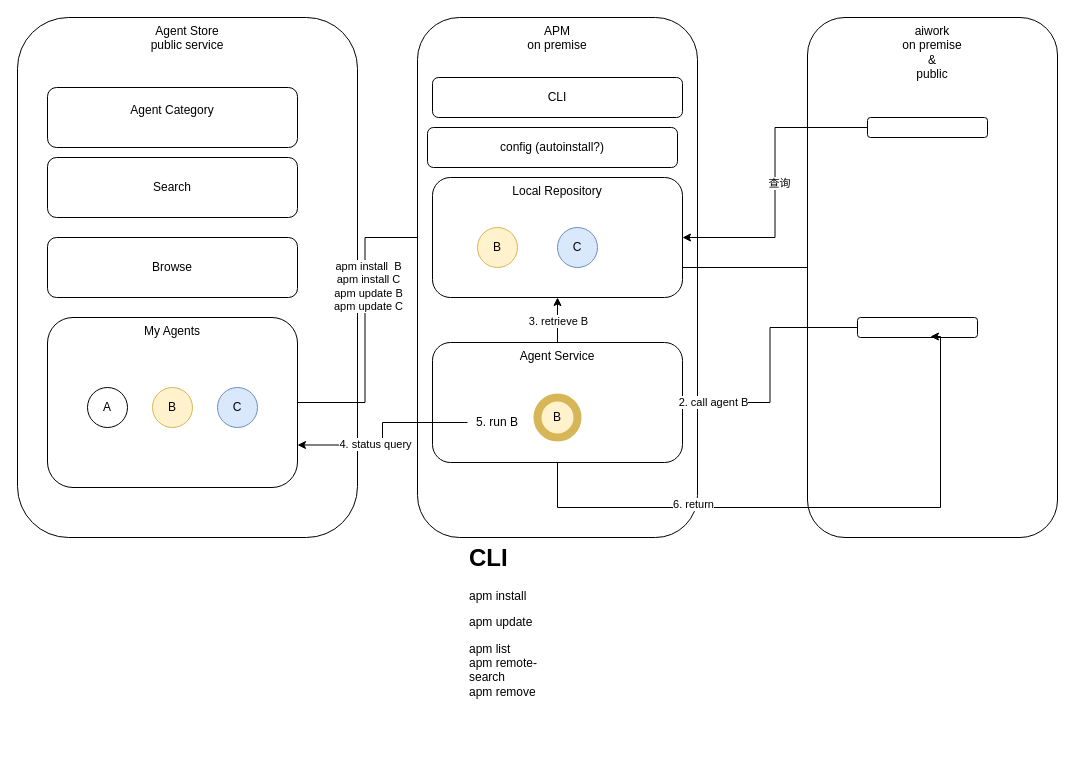
This 1075x758 diagram has some shape labels left out. Each missing label, with the centre of its shape:
1. run agent node B: the point at 917,327
search agent: the point at 927,127
